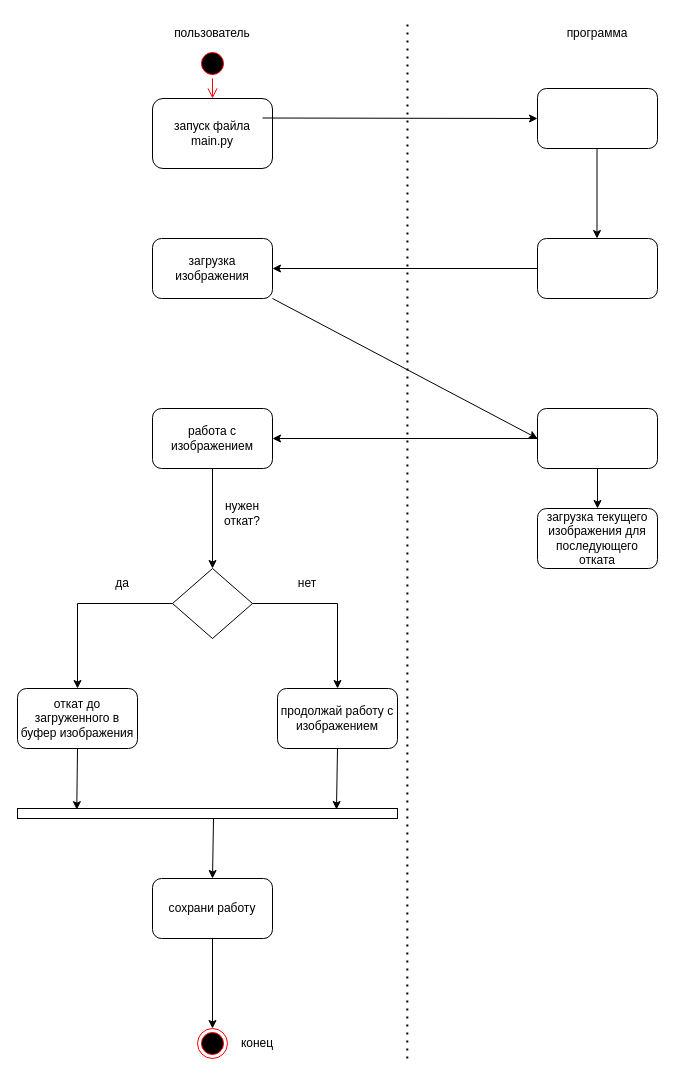
Image size: 675x1077. Some labels were removed from this diagram. Here are the shapes that lost their labels. From the top down, the centre of each, then its label:
At point (597, 118): "запуск файлов для работы программы".
At point (597, 268): "вывод интерфейса и рабочих кнопок".
At point (597, 438): "загрузка изображения в буфер".
